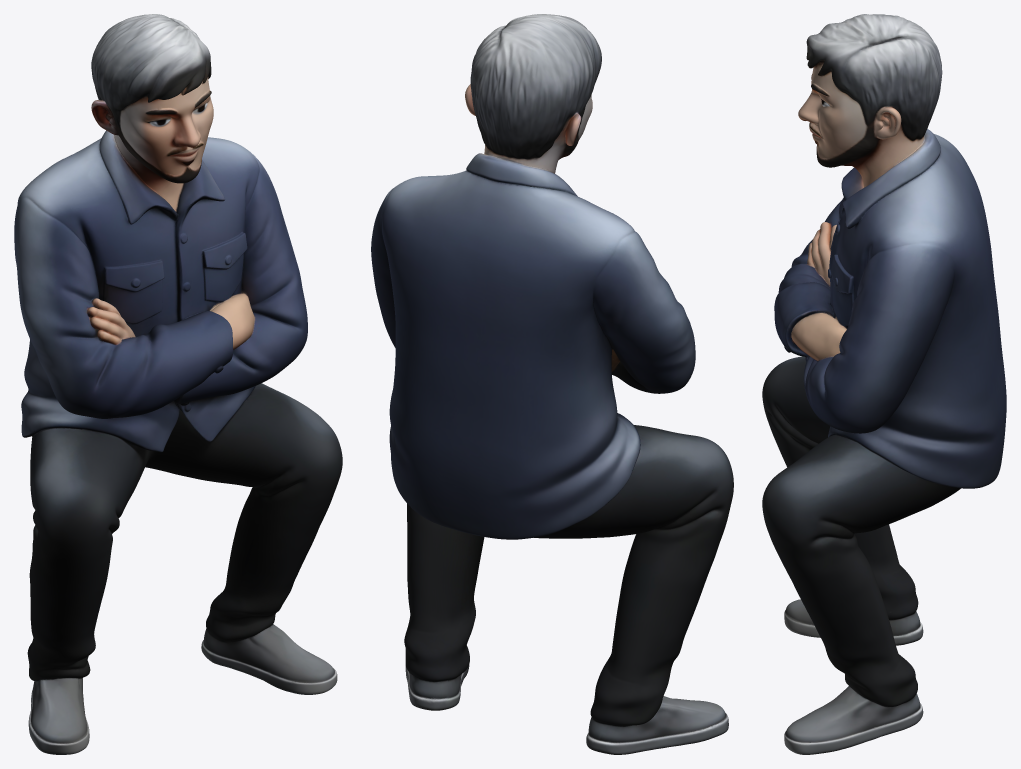
The model's file is AzkaUIUX.fbx.
3 views of the same model, side by side, from view 1: azimuth 30°, elevation 25°; view 2: azimuth 150°, elevation 25°; view 3: azimuth 270°, elevation 25° (orthographic). The views are drawn at different scales.
Parts seen in each view (by area): view 1: tripo_node_b7cfdfde; view 2: tripo_node_b7cfdfde; view 3: tripo_node_b7cfdfde.
Part boxes in pixels (left/top/right/bottom): tripo_node_b7cfdfde: left=14, top=14, right=342, bottom=754; tripo_node_b7cfdfde: left=371, top=14, right=733, bottom=754; tripo_node_b7cfdfde: left=762, top=14, right=1006, bottom=754.
Size of the model in its own units: 0.463 by 1 by 0.3319.
